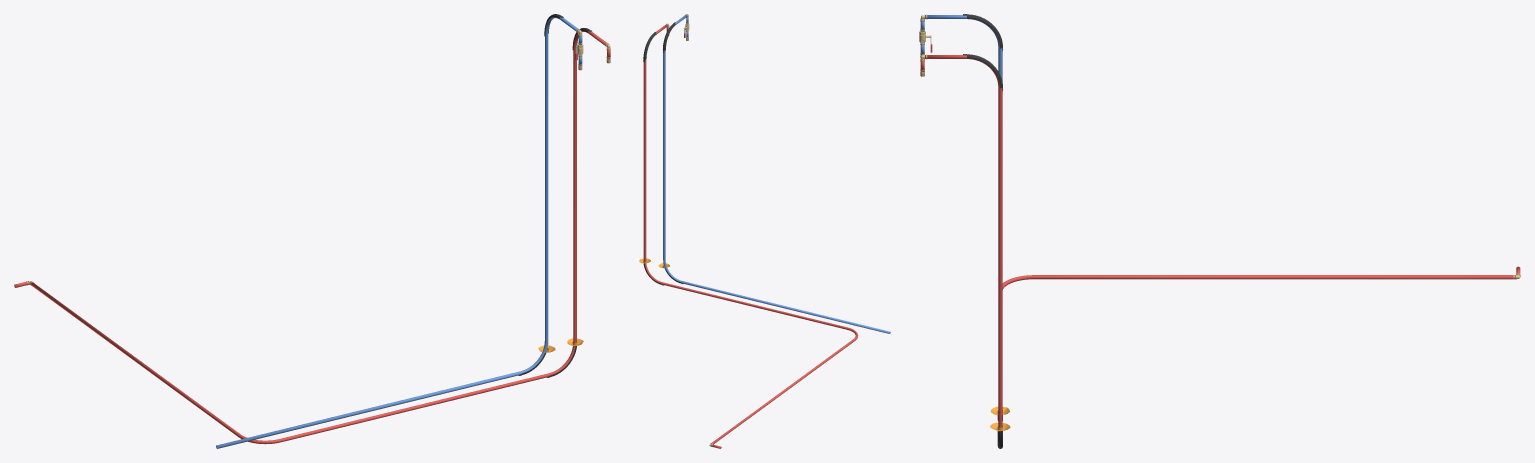
File: pipes_supply__water_heater-closet_gas_tank+closet_electric_tank_and_plumbing-pex.glb
3 views of the same model, side by side, from view 1: azimuth 30°, elevation 25°; view 2: azimuth 150°, elevation 25°; view 3: azimuth 270°, elevation 25° (orthographic). The views are drawn at different scales.
Visible parts, largest first — view 1: pipe_supply_hot_wh_closet__pex, pipe_supply_cold_wh_closet__pex; view 2: pipe_supply_hot_wh_closet__pex, pipe_supply_cold_wh_closet__pex; view 3: pipe_supply_hot_wh_closet__pex.
Boxes of the visible parts, left/top/right/bottom form: pipe_supply_hot_wh_closet__pex: left=14, top=31, right=610, bottom=444; pipe_supply_cold_wh_closet__pex: left=216, top=17, right=582, bottom=448; pipe_supply_hot_wh_closet__pex: left=643, top=24, right=858, bottom=448; pipe_supply_cold_wh_closet__pex: left=663, top=14, right=890, bottom=333; pipe_supply_hot_wh_closet__pex: left=920, top=55, right=1520, bottom=427.
Bounding box in the file's own units: 2.58 × 2.51 × 3.18.
